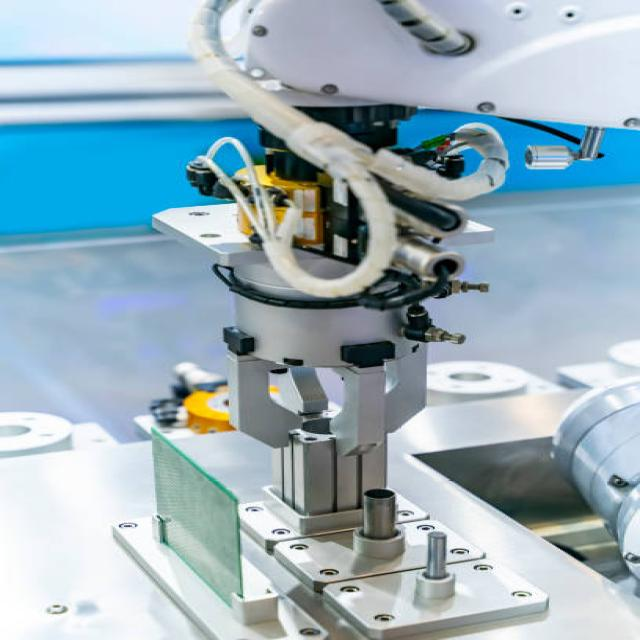Robotic-arm: (123, 0, 640, 365)
